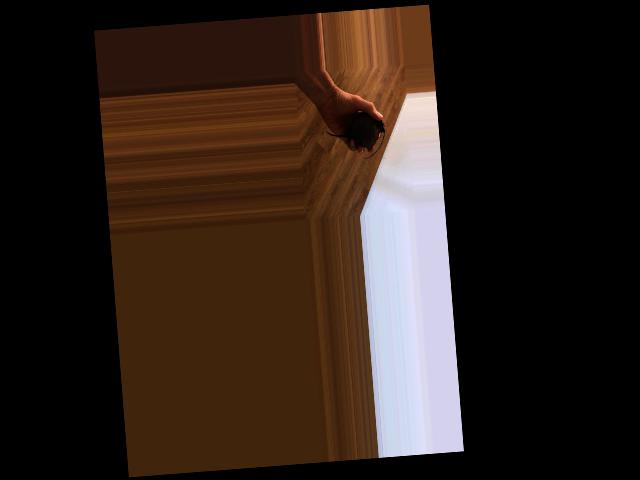beet: (324, 111, 387, 162)
